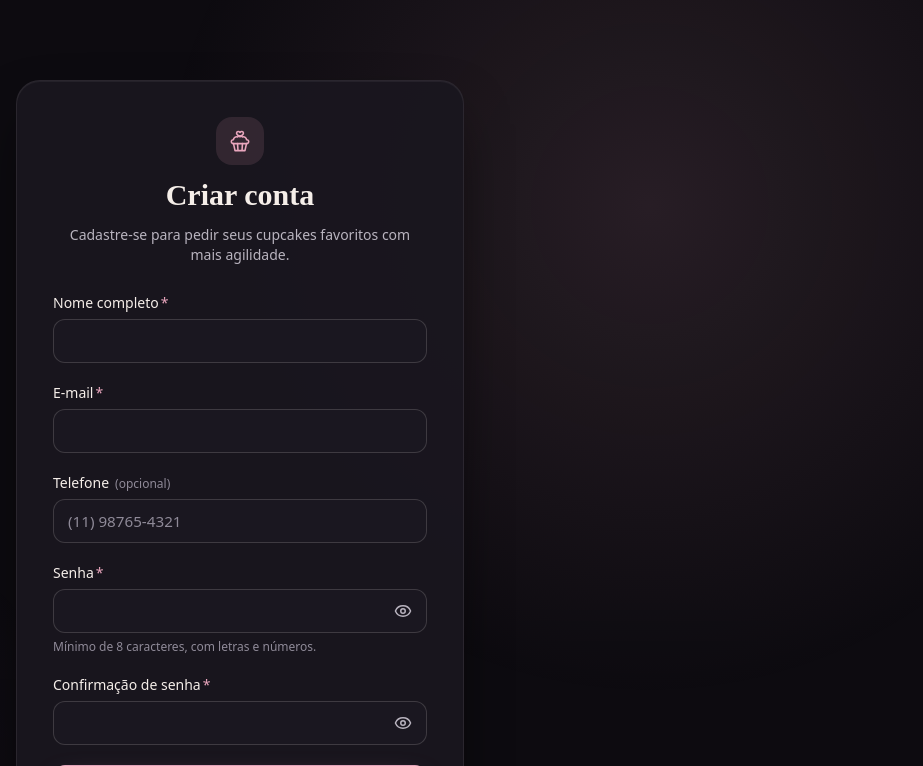
Scenario: RegisterPage › aplica máscara ao telefone
Type "11987654321" into the field labelled "Telefone(opcional)".
click(240, 521); type("11987654321")  # box [53,499,427,543]
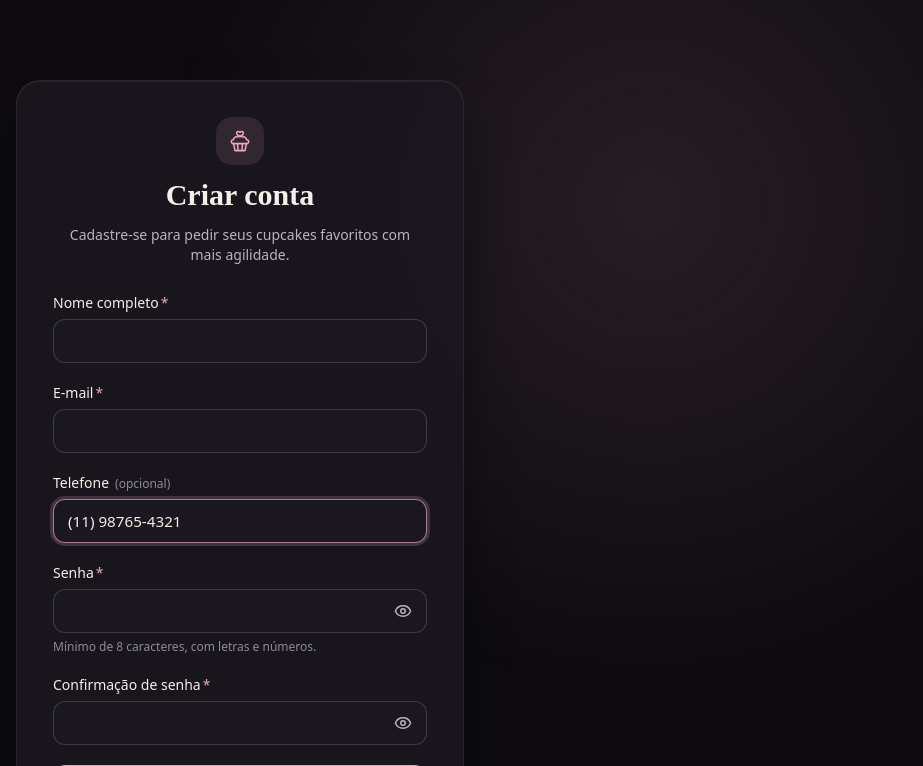
Expected: the field labelled "Telefone(opcional)" holds "(11) 98765-4321", [53,499,427,543]
